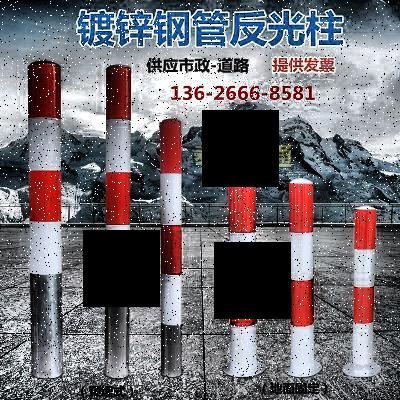bench: (20, 56, 69, 376), (223, 175, 265, 377)
